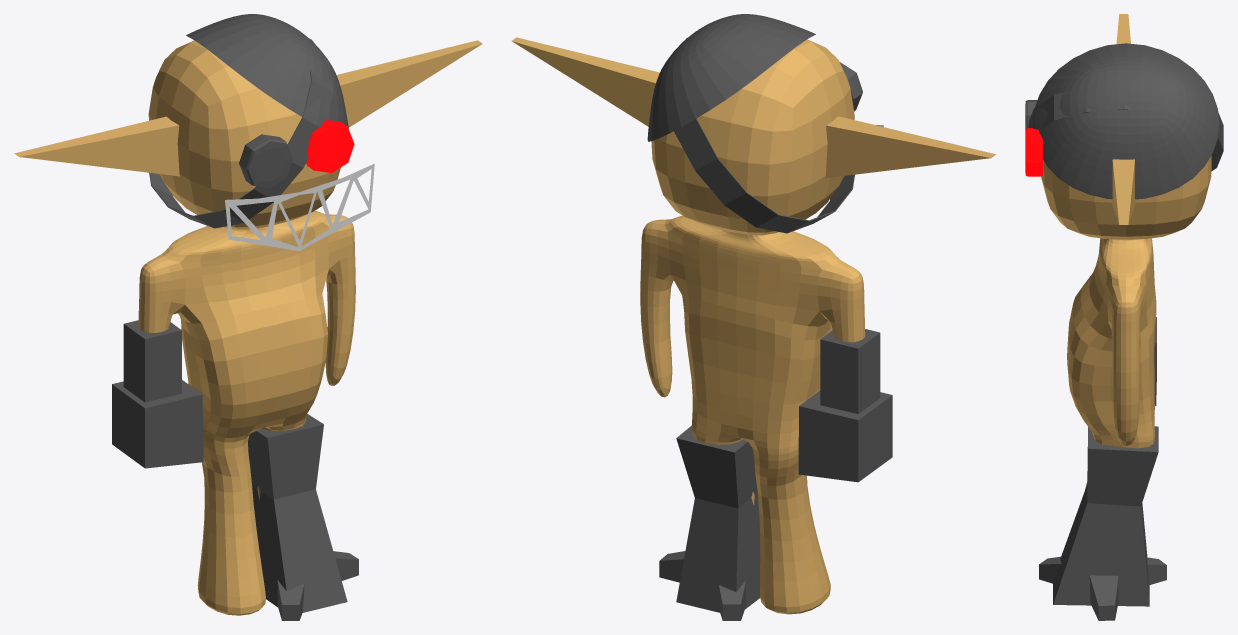
The model's file is Grox.fbx.
3 views of the same model, side by side, from view 1: azimuth 30°, elevation 25°; view 2: azimuth 150°, elevation 25°; view 3: azimuth 270°, elevation 25° (orthographic). The views are drawn at different scales.
Parts seen in each view (by area): view 1: Plane; view 2: Plane; view 3: Plane.
Boxes of the visible parts, box(x1,y1,x2,y2) form: Plane: box(14, 14, 482, 620); Plane: box(512, 14, 995, 620); Plane: box(1025, 14, 1223, 620).
Bounding box in the file's own units: 142 × 164 × 56.3.
